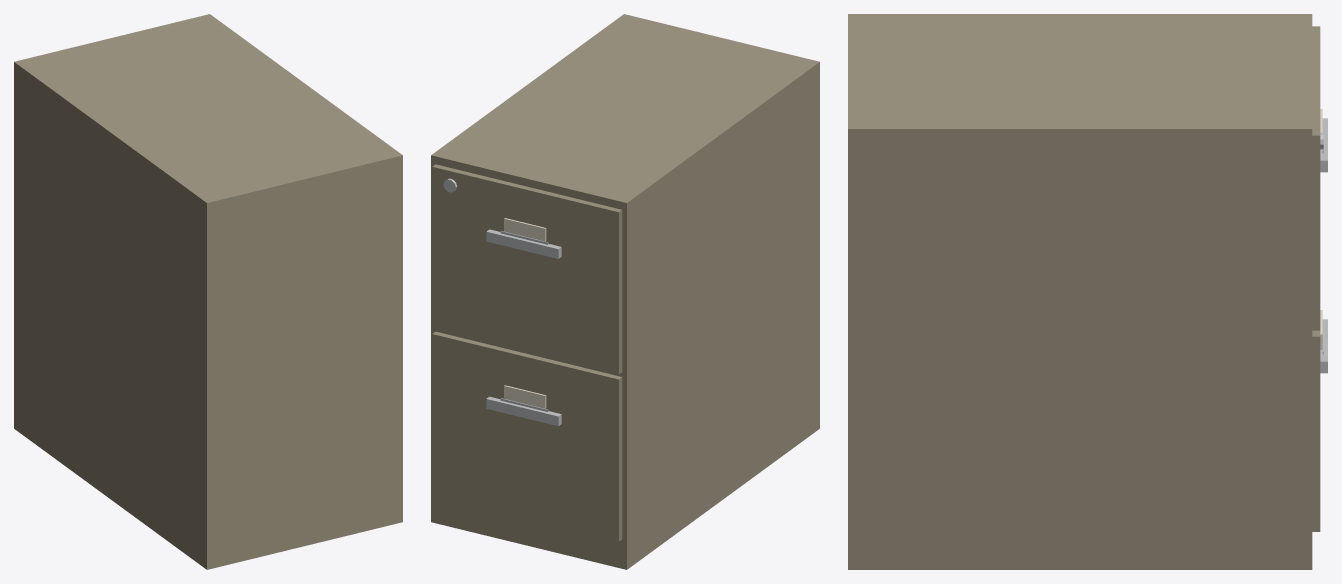
Rendered from SM_80s_FileCabinet2.glb.
3 renders of one model, left to right at view 1: azimuth 30°, elevation 25°; view 2: azimuth 150°, elevation 25°; view 3: azimuth 270°, elevation 25°, orthographic. The views are drawn at different scales.
Parts seen in each view (by area): view 1: SM_80s_FileCabinet2; view 2: SM_80s_FileCabinet2; view 3: SM_80s_FileCabinet2.
Part boxes in pixels (box(x1,y1,x2,y2)): SM_80s_FileCabinet2: box(14, 14, 402, 569); SM_80s_FileCabinet2: box(431, 14, 819, 569); SM_80s_FileCabinet2: box(848, 14, 1327, 569).
Size of the model in its own units: 0.5016 by 0.8976 by 0.8852.
